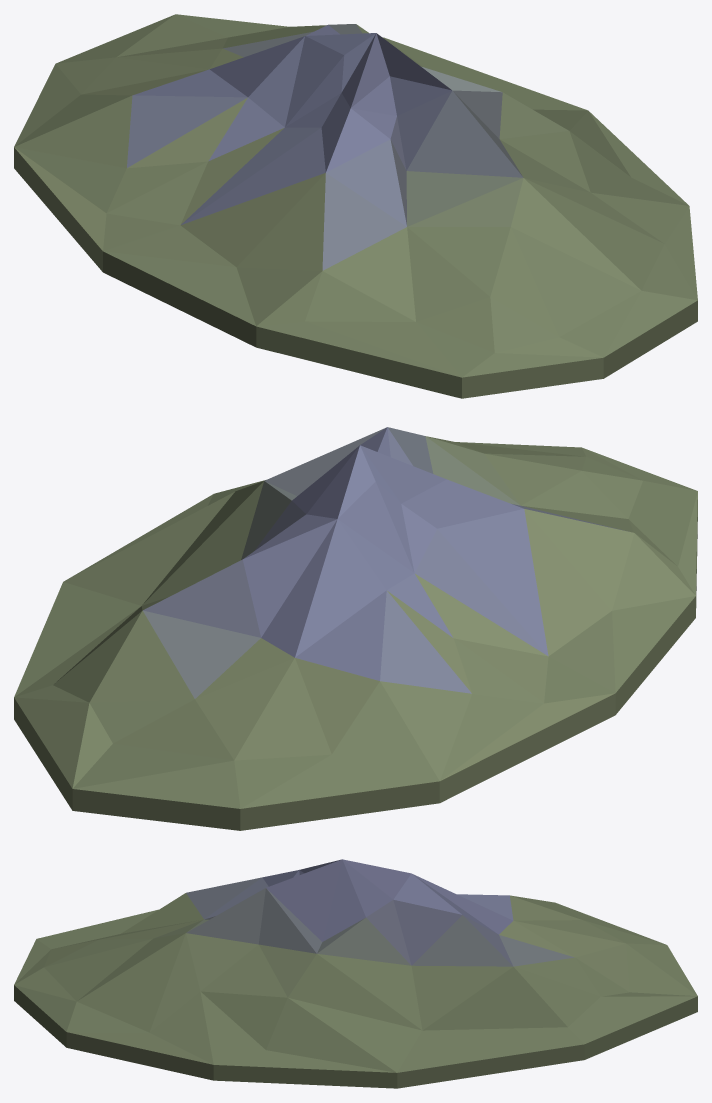
Rendered from massif_blue_buttress.glb.
3 renders of one model, top to bottom at view 1: azimuth 30°, elevation 25°; view 2: azimuth 150°, elevation 25°; view 3: azimuth 270°, elevation 25°, orthographic. The views are drawn at different scales.
Parts seen in each view (by area): view 1: massif_blue_buttress; view 2: massif_blue_buttress; view 3: massif_blue_buttress.
Part boxes in pixels (x1,y1,x2,y2): massif_blue_buttress: (14, 14, 697, 398); massif_blue_buttress: (14, 427, 697, 830); massif_blue_buttress: (14, 859, 697, 1088).
Bounding box in the file's own units: 276 × 96.83 × 432.
